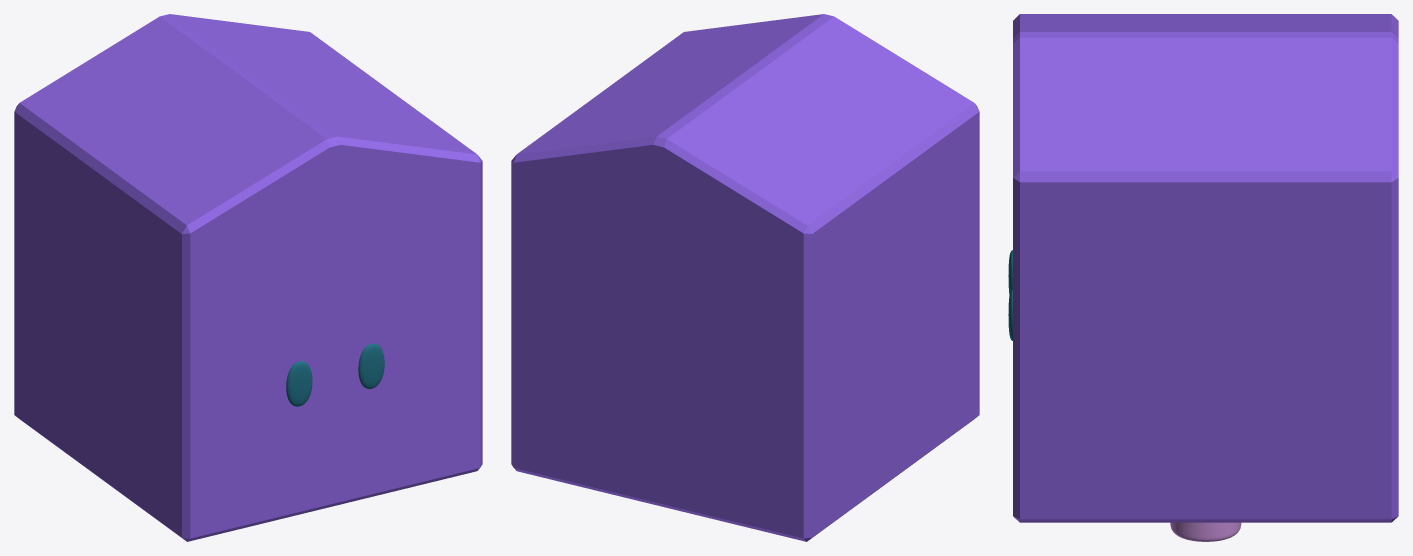
The model's file is houseman.fbx.
3 views of the same model, side by side, from view 1: azimuth 30°, elevation 25°; view 2: azimuth 150°, elevation 25°; view 3: azimuth 270°, elevation 25° (orthographic). The views are drawn at different scales.
Visible parts, largest first — view 1: Cube.008; view 2: Cube.008; view 3: Cube.008, Cube.005.
Boxes of the visible parts, x1=… form: Cube.008: x1=14, y1=14, x2=482, y2=541; Cube.008: x1=511, y1=14, x2=979, y2=541; Cube.008: x1=1008, y1=14, x2=1398, y2=522; Cube.005: x1=1170, y1=522, x2=1241, y2=541.
Bounding box in the file's own units: 200 × 271 × 202.
